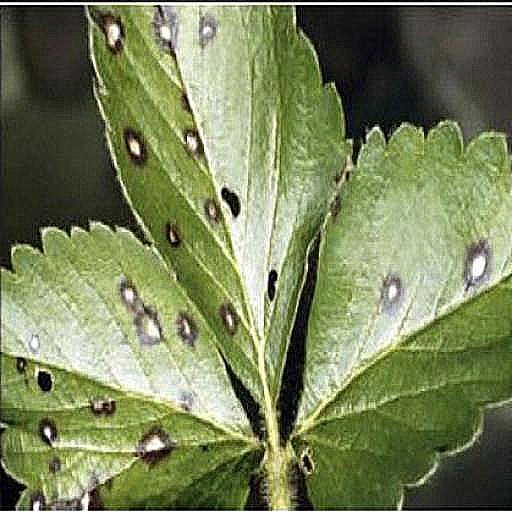Leaf Spot: (156, 3, 428, 417), (0, 118, 223, 511), (248, 220, 511, 511)
